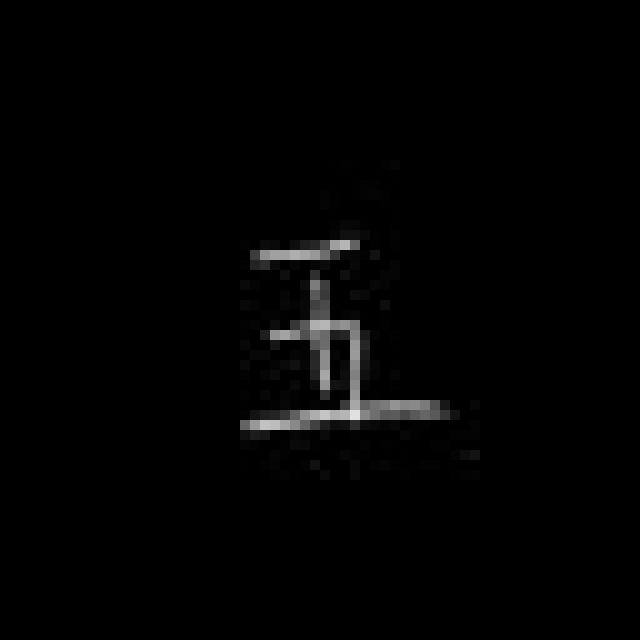5 -five-: (238, 227, 450, 444)
